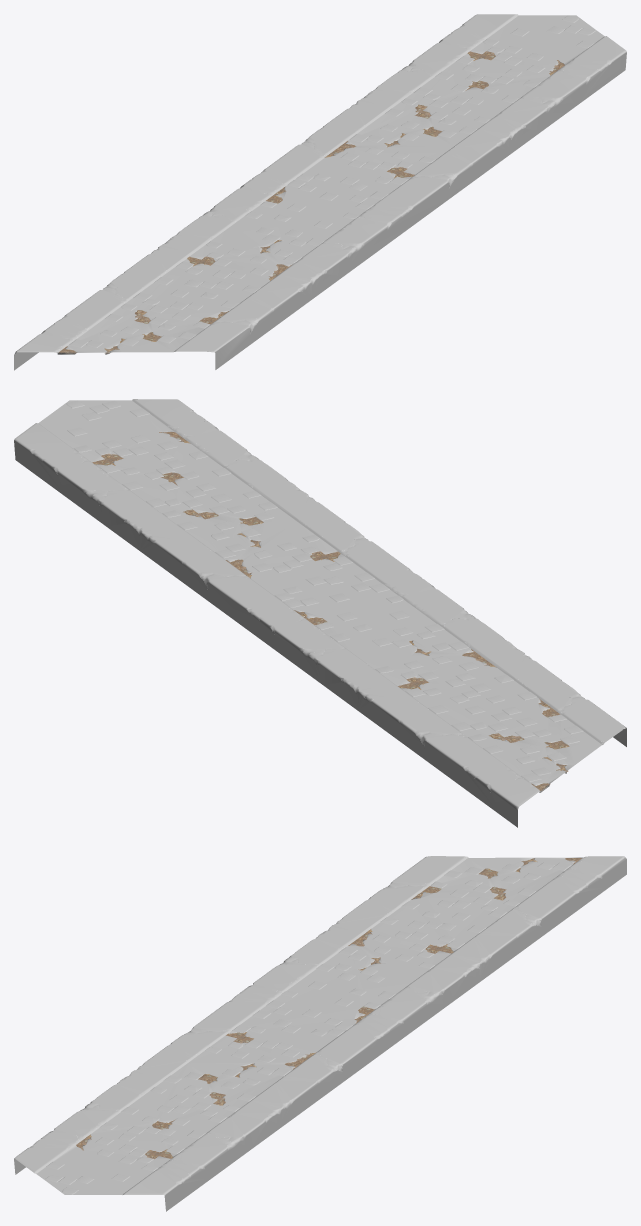
3 views of the same model, one above another, from view 1: azimuth 90°, elevation 25°; view 2: azimuth 150°, elevation 25°; view 3: azimuth 270°, elevation 25° (orthographic). The views are drawn at different scales.
Parts seen in each view (by area): view 1: SM_Nightmare_Crucible_Arena_Side_Section_ThinB_01v1_LOD0; view 2: SM_Nightmare_Crucible_Arena_Side_Section_ThinB_01v1_LOD0; view 3: SM_Nightmare_Crucible_Arena_Side_Section_ThinB_01v1_LOD0.
Boxes of the visible parts, x1,y1,x2,y2 form: SM_Nightmare_Crucible_Arena_Side_Section_ThinB_01v1_LOD0: (14,14,626,370); SM_Nightmare_Crucible_Arena_Side_Section_ThinB_01v1_LOD0: (14,399,626,827); SM_Nightmare_Crucible_Arena_Side_Section_ThinB_01v1_LOD0: (14,856,626,1211).
Bounding box in the file's own units: 92.33 × 2.38 × 70.66.
